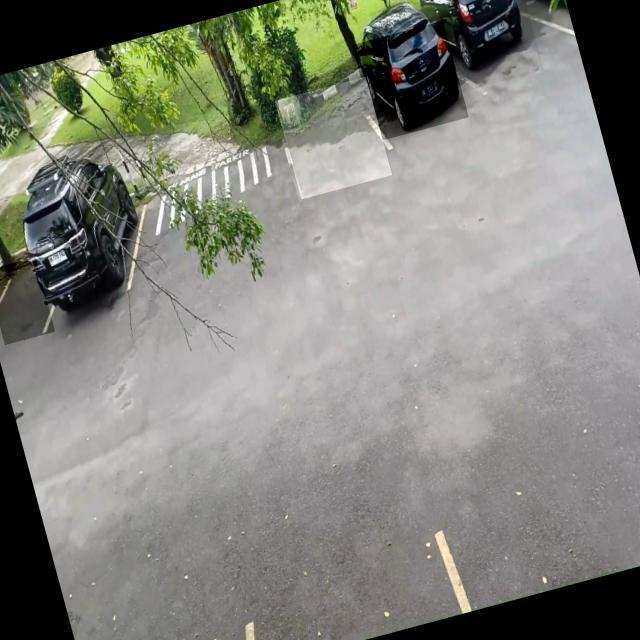empty: (274, 76, 392, 198), (0, 256, 54, 344)
occupied: (12, 168, 154, 322), (352, 20, 468, 141), (424, 0, 543, 92)
